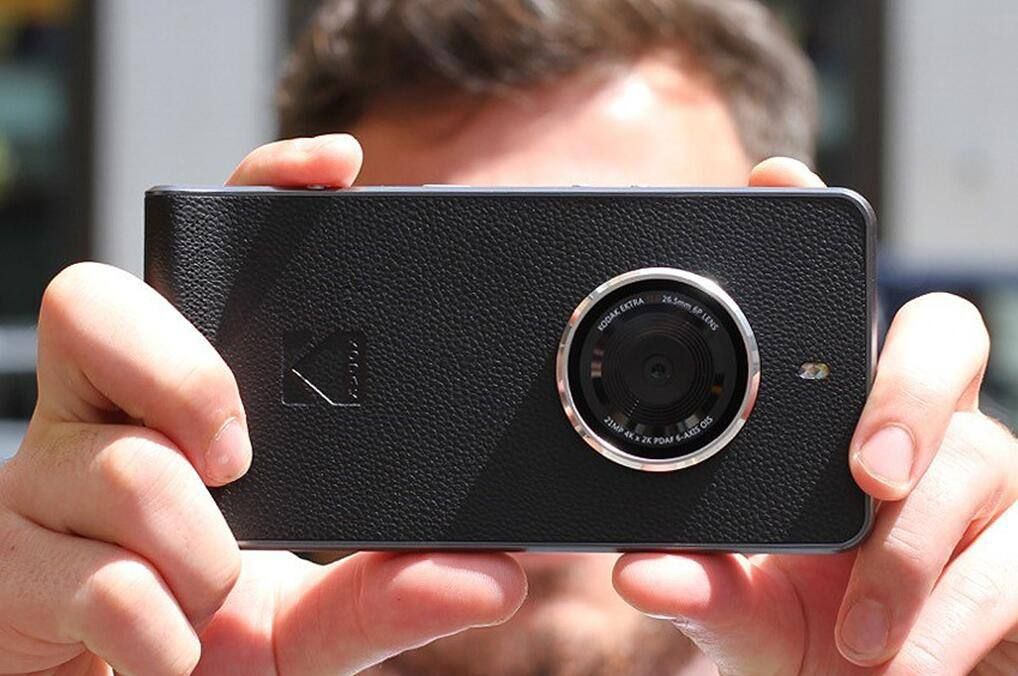taking photos: (5, 125, 1014, 672)
